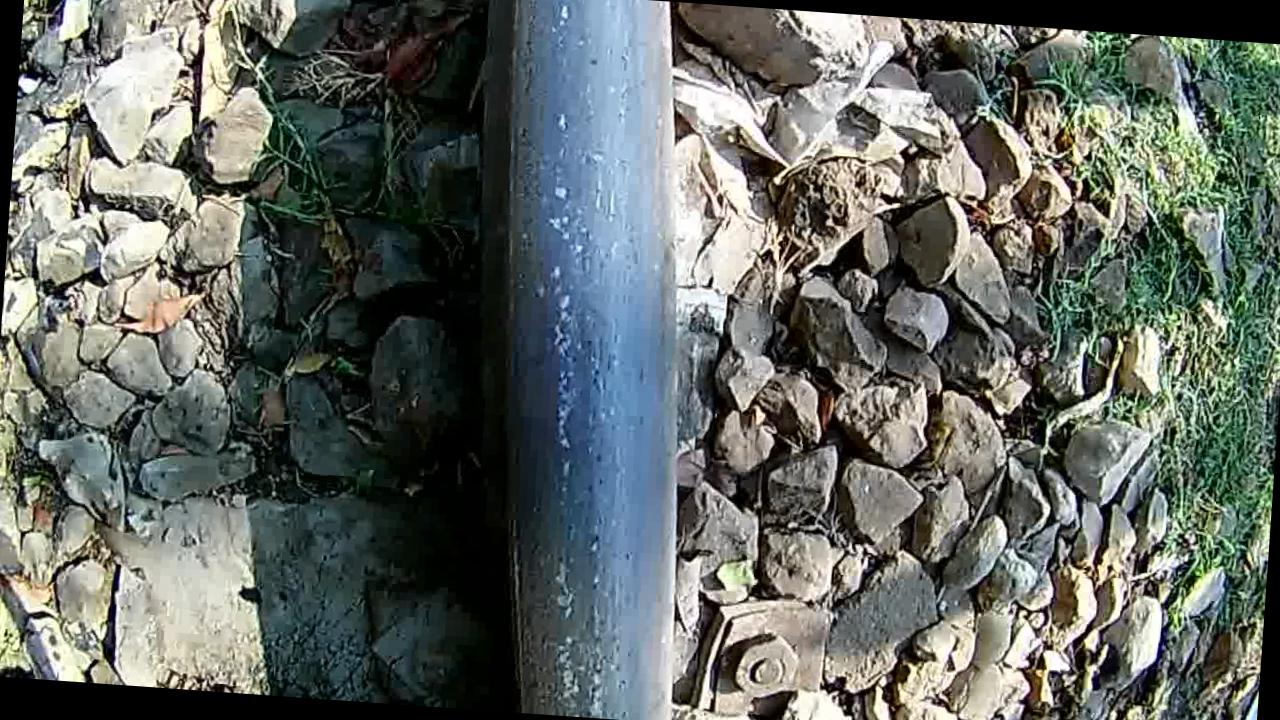clip_missing: (452, 0, 722, 720)
